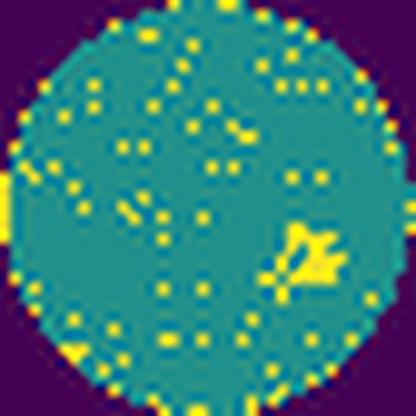Loc: (257, 224, 350, 300)
